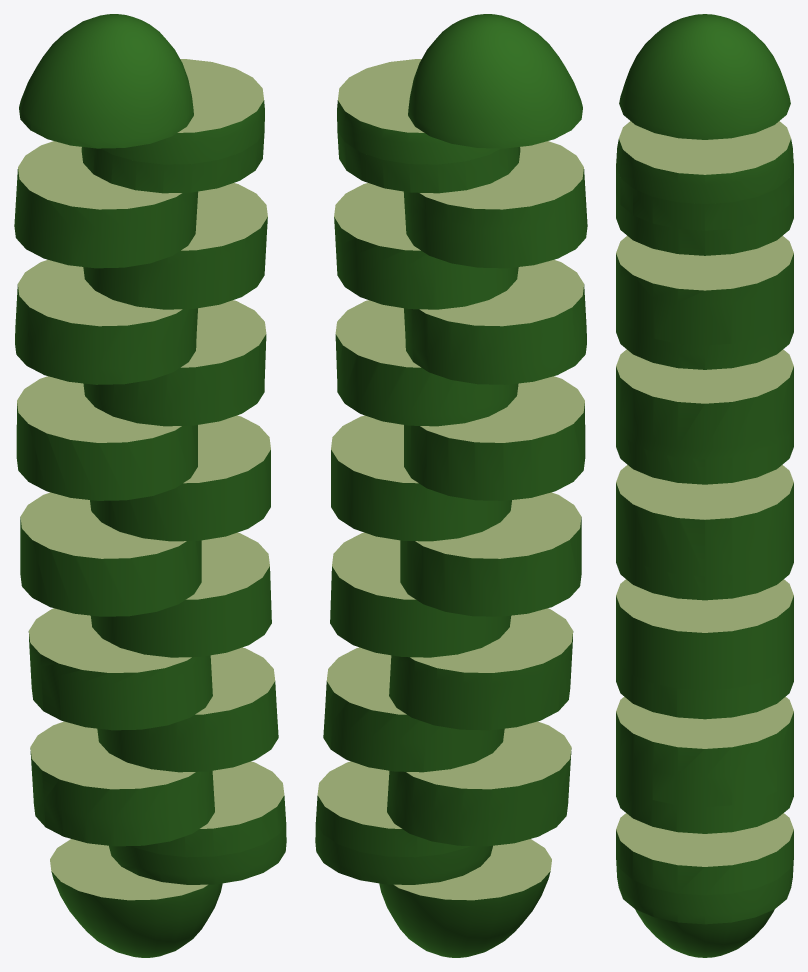
File: CucumberCutFBX.fbx
3 views of the same model, side by side, from view 1: azimuth 30°, elevation 25°; view 2: azimuth 150°, elevation 25°; view 3: azimuth 270°, elevation 25° (orthographic). The views are drawn at different scales.
Parts seen in each view (by area): view 1: pSphere34, pSphere18, pSphere30, pSphere26, pSphere22, pSphere10, pSphere14, pSphere33, pSphere28, pSphere20, pSphere24, pSphere15 (+3 smaller); view 2: pSphere34, pSphere18, pSphere30, pSphere26, pSphere22, pSphere10, pSphere14, pSphere33, pSphere28, pSphere20, pSphere24, pSphere15 (+3 smaller); view 3: pSphere34, pSphere20, pSphere15, pSphere33, pCylinder20, pSphere28, pSphere24, pSphere12, pSphere14, pSphere10, pSphere30, pSphere22 (+3 smaller).
Part boxes in pixels (x1,y1,x2,y2): pSphere34: (19,14,193,148); pSphere18: (20,492,201,616); pSphere30: (14,141,198,268); pSphere26: (15,260,197,384); pSphere22: (16,376,197,500); pSphere10: (30,721,214,846); pSphere14: (28,608,212,730); pSphere33: (81,59,264,193); pSphere28: (83,183,267,309); pSphere20: (90,415,270,541); pSphere24: (83,300,266,426); pSphere15: (91,532,271,657); pSphere34: (408,14,582,148); pSphere18: (400,492,581,616); pSphere30: (403,141,587,268); pSphere26: (404,260,586,384); pSphere22: (404,376,585,500); pSphere10: (387,721,571,846); pSphere14: (389,608,573,730); pSphere33: (337,59,520,193); pSphere28: (334,183,518,309); pSphere20: (331,415,511,541); pSphere24: (335,300,518,426); pSphere15: (330,532,510,657); pSphere34: (619,14,790,139); pSphere20: (616,465,793,576); pSphere15: (616,579,793,690); pSphere33: (616,121,793,230); pCylinder20: (616,813,793,924); pSphere28: (616,235,793,345); pSphere24: (616,349,793,459); pSphere12: (616,696,793,806); pSphere14: (616,653,793,719); pSphere10: (616,770,793,833); pSphere30: (616,163,793,255); pSphere22: (616,422,793,484).
Bounding box in the file's own units: 2.06 × 7.42 × 1.3.
